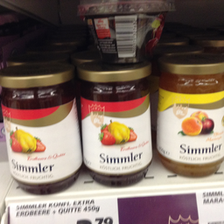jam: (3, 63, 82, 195), (77, 61, 155, 188), (155, 53, 224, 178), (78, 1, 174, 63)
